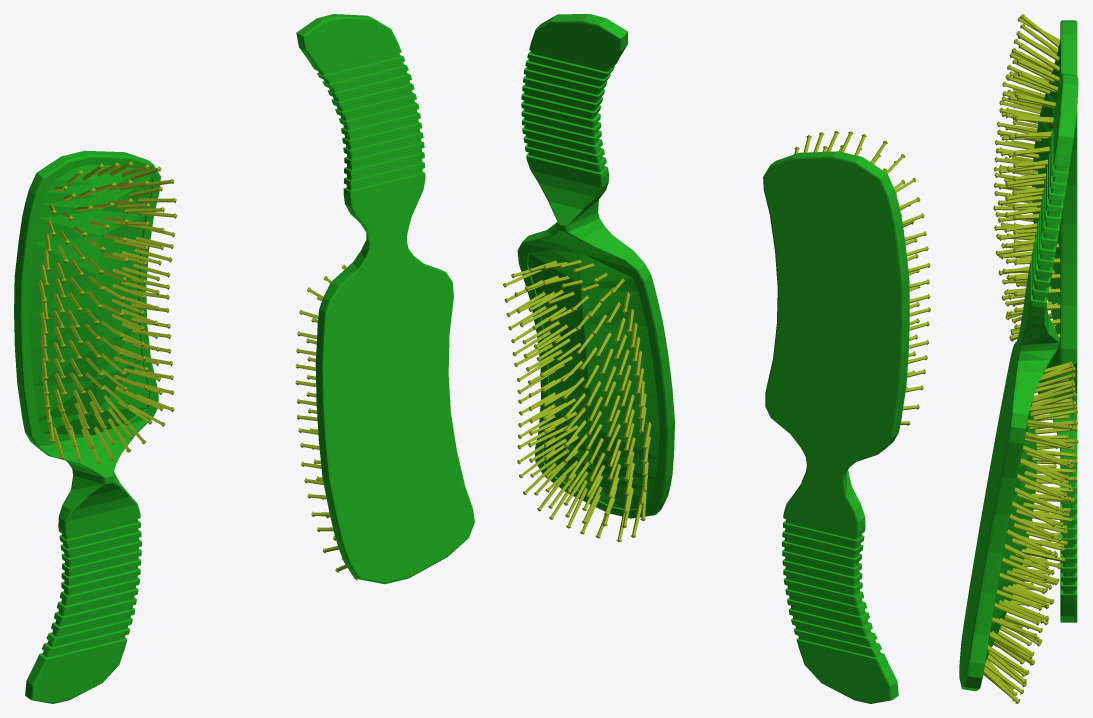
The model's file is Hair_ Brush_Low_Poly_OBJ.obj.
The picture shows the model from 3 angles, left to right: view 1: azimuth 30°, elevation 25°; view 2: azimuth 150°, elevation 25°; view 3: azimuth 270°, elevation 25°; orthographic projection. The views are drawn at different scales.
Parts seen in each view (by area): view 1: comb_base004, comb_base, comb_pad; view 2: comb_base, comb_base004, comb_pad004; view 3: comb_base004, comb_base, comb_pad004, comb_pad, comb952, comb444, comb370, comb947, comb957, comb447, comb914, comb954 (+29 smaller).
Boxes of the visible parts, x1,y1,x2,y2 form: comb_base004: (296,14,474,584); comb_base: (14,150,160,703); comb_pad: (29,164,151,442); comb_base: (763,151,909,703); comb_base004: (517,14,674,518); comb_pad004: (528,249,659,509); comb_base004: (959,73,1078,691); comb_base: (1037,20,1077,622); comb_pad004: (985,403,1036,661); comb_pad: (1032,41,1060,347); comb952: (999,572,1045,594); comb444: (1018,33,1059,61); comb370: (1018,43,1059,71); comb947: (994,602,1039,625); comb957: (1007,529,1051,554); comb447: (1020,14,1059,48); comb914: (1012,501,1055,526); comb954: (1002,557,1047,580).
Bounding box in the file's own units: 168 × 240 × 38.33.
